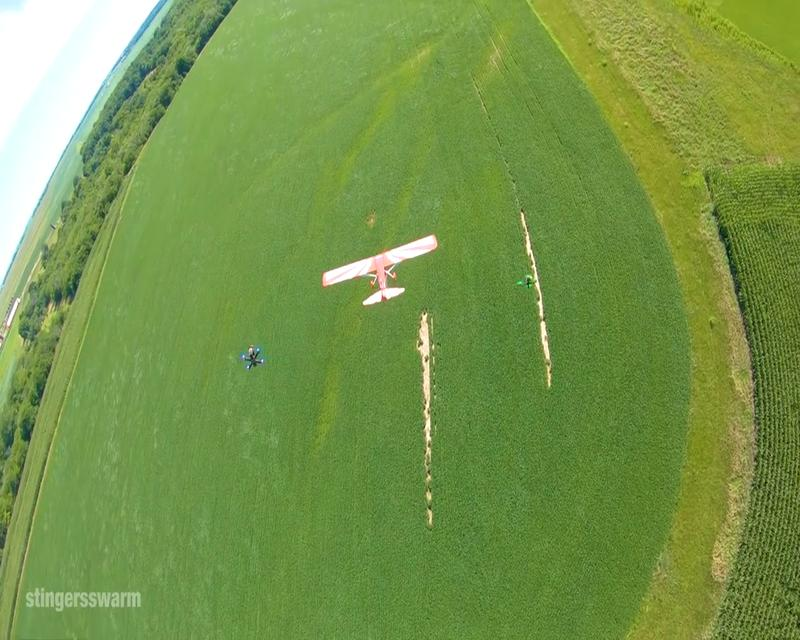UAV: (322, 233, 438, 305)
